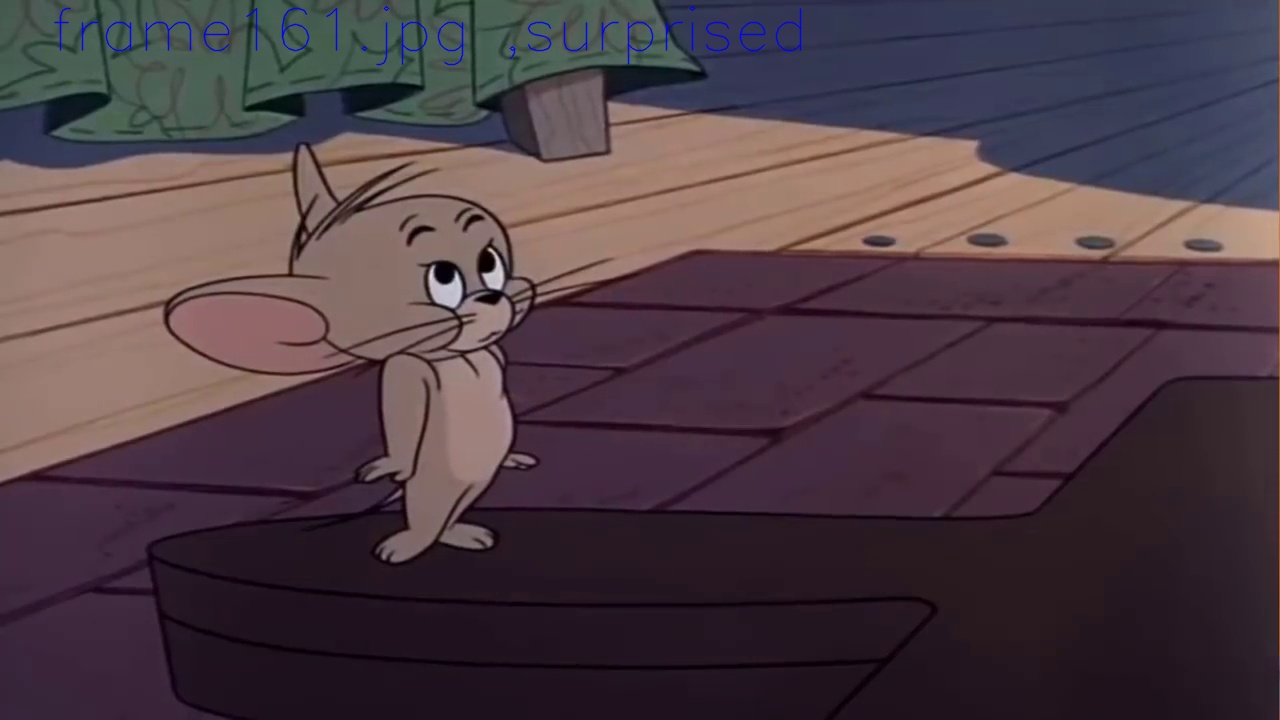surprised: (400, 203, 515, 353)
